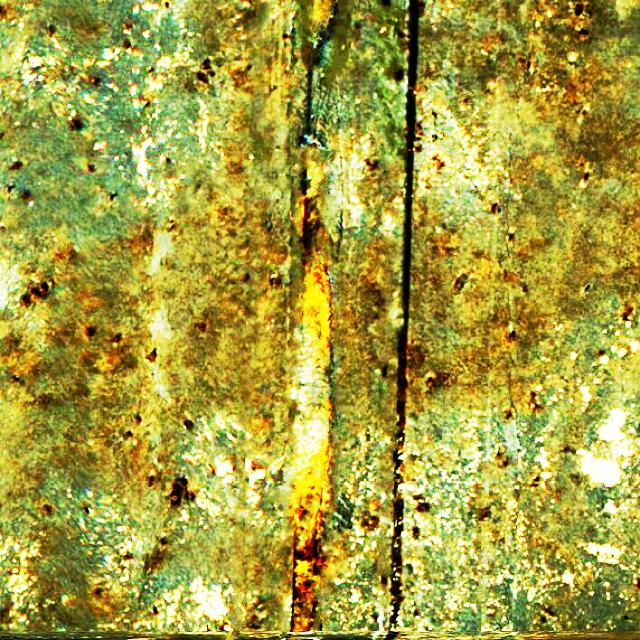Corrosion: (291, 167, 333, 635)
